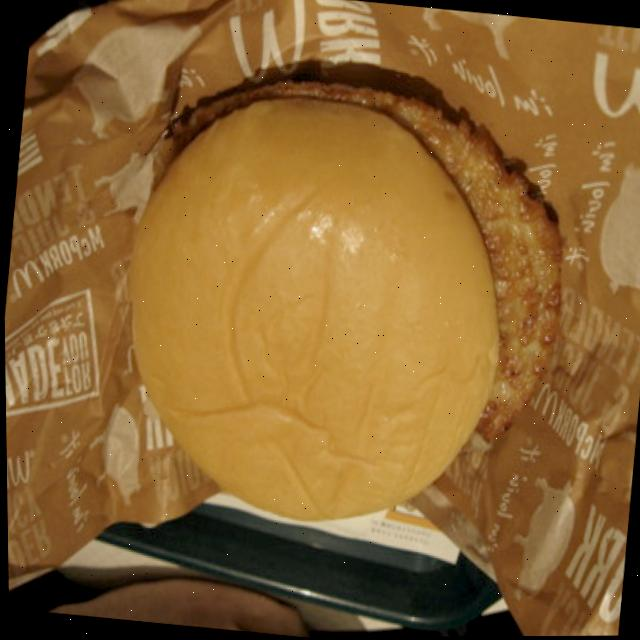汉堡快餐: (79, 38, 599, 563)
